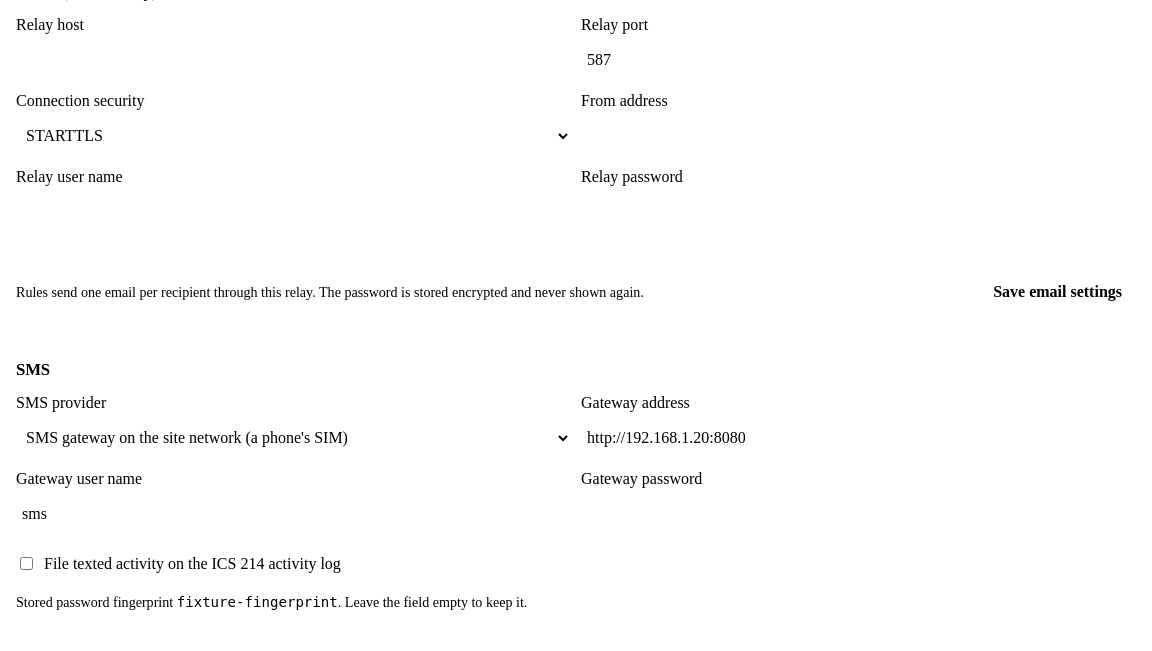
Test: turns texted activity logging on for the gateway and lists what each activity text did
The width and height of the screenshot is (1152, 651).
Click the checkbox labelled "File texted activity on the ICS 214 activity log" at (26, 564), box [20,557,33,570]
(page scrolled)
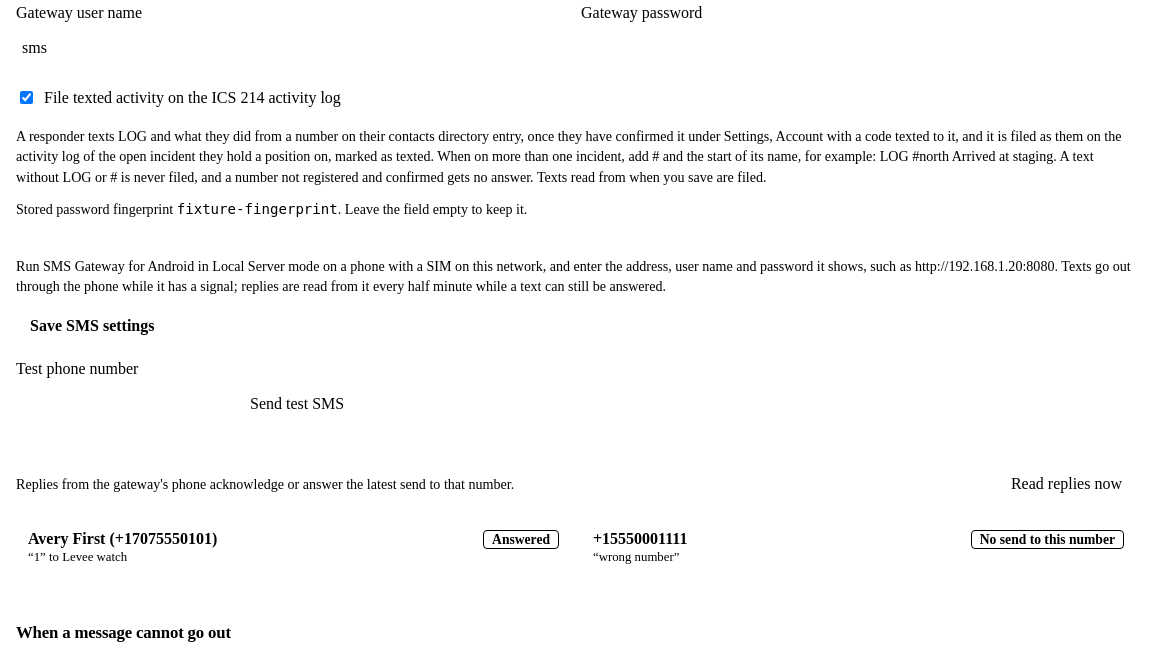
Expected: the text "LOG #north Arrived at staging" is shown, [16,128,1122,185]
Click the button "Save SMS settings" at (92, 326), box [16,304,168,348]
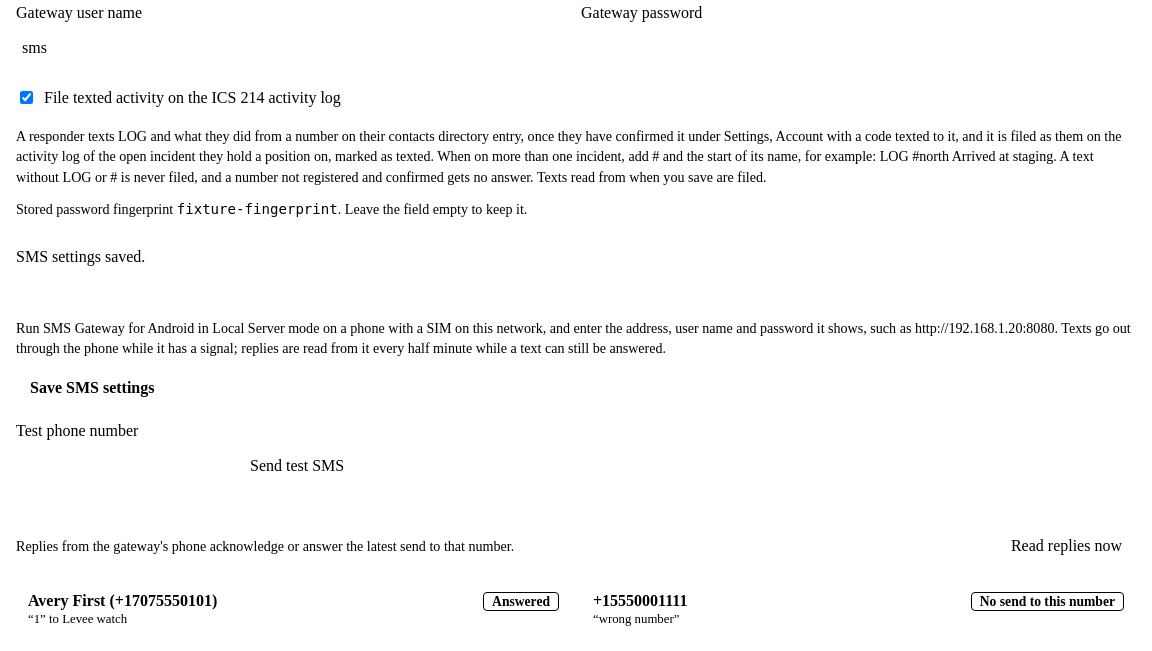
Expected: the text "SMS settings saved." is shown, [16,248,145,264]
